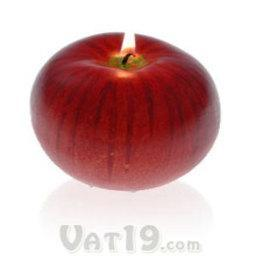apple: (30, 32, 221, 191)
